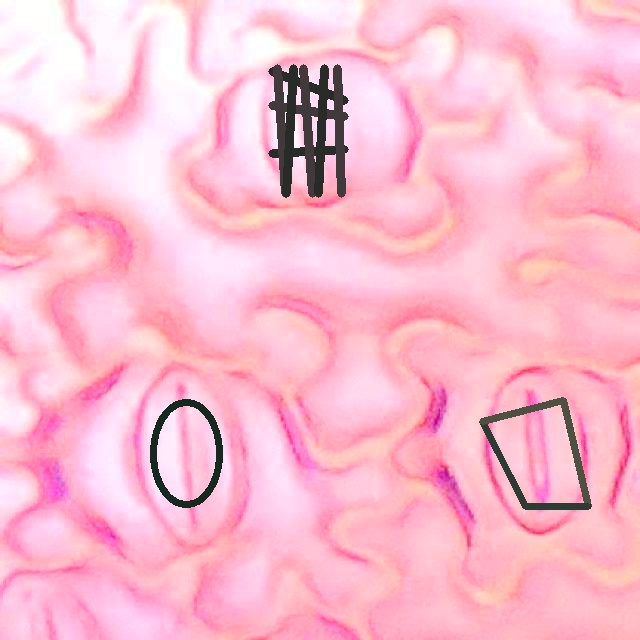close: (268, 64, 348, 197), (151, 398, 221, 507)
open: (480, 397, 591, 508)
